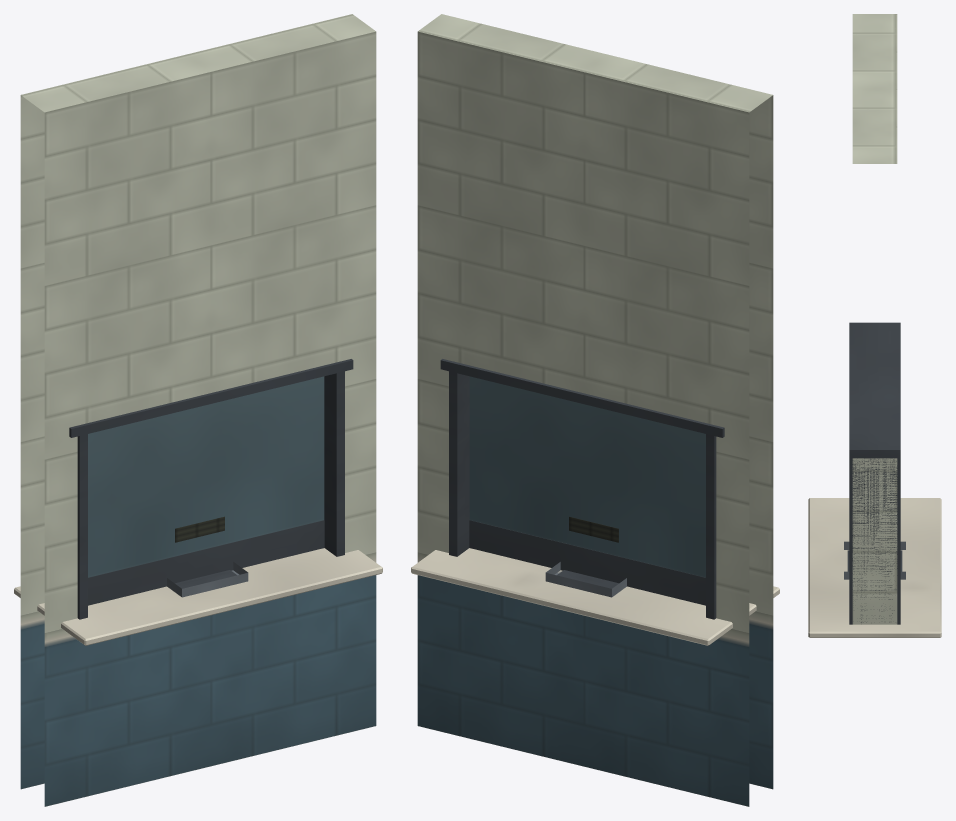
Rendered from wall_control_window.fbx.
3 renders of one model, left to right at view 1: azimuth 30°, elevation 25°; view 2: azimuth 150°, elevation 25°; view 3: azimuth 270°, elevation 25°, orthographic. The views are drawn at different scales.
Visible parts, largest first — view 1: wall_control_window; view 2: wall_control_window; view 3: wall_control_window.
Part boxes in pixels (x1,y1,x2,y2): wall_control_window: (14,14,382,806); wall_control_window: (411,14,779,806); wall_control_window: (808,14,941,637).
Size of the model in its own units: 2 by 4 by 0.75.
1 material, 1 textured.
